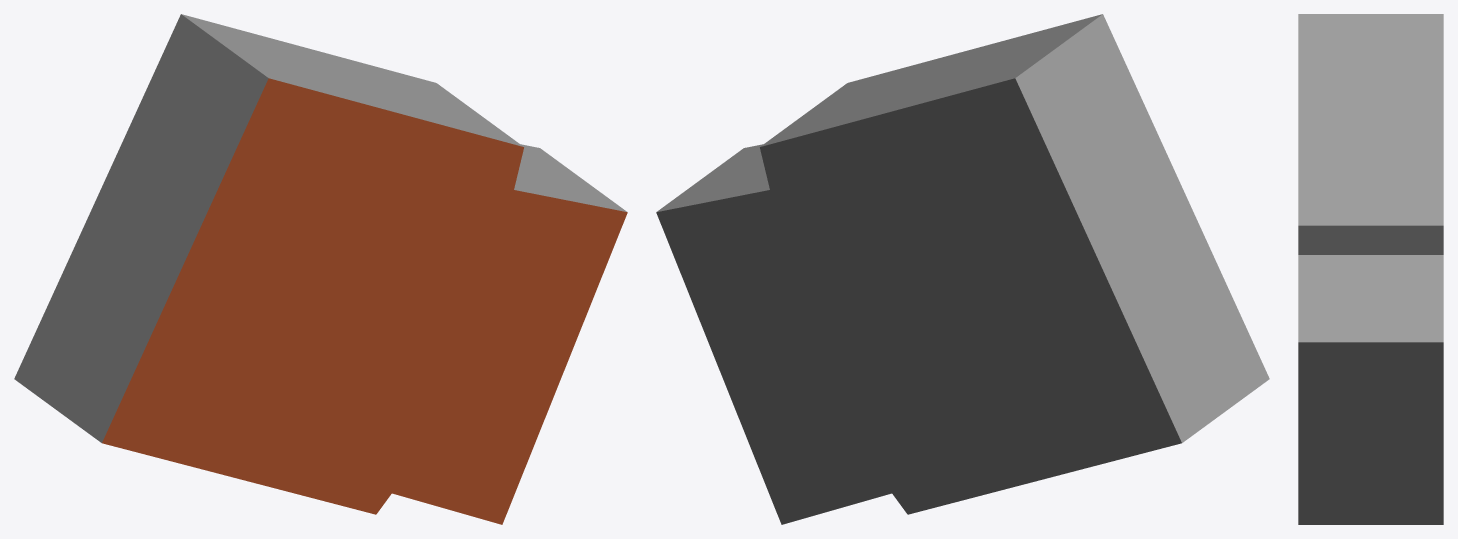
Rendered from construction_0649_assumed_A_Casa_h6m.obj.
The picture shows the model from 3 angles, left to right: view 1: azimuth 30°, elevation 25°; view 2: azimuth 150°, elevation 25°; view 3: azimuth 270°, elevation 25°; orthographic projection. The views are drawn at different scales.
Visible parts, largest first — view 1: construction_0649_assumed_A_Casa; view 2: construction_0649_assumed_A_Casa; view 3: construction_0649_assumed_A_Casa.
Part boxes in pixels (left/top/right/bottom): construction_0649_assumed_A_Casa: left=14, top=14, right=627, bottom=524; construction_0649_assumed_A_Casa: left=656, top=14, right=1269, bottom=524; construction_0649_assumed_A_Casa: left=1298, top=14, right=1443, bottom=524.
Bounding box in the file's own units: 20.77 × 19.01 × 6.
